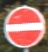No entry: (5, 6, 43, 47)
